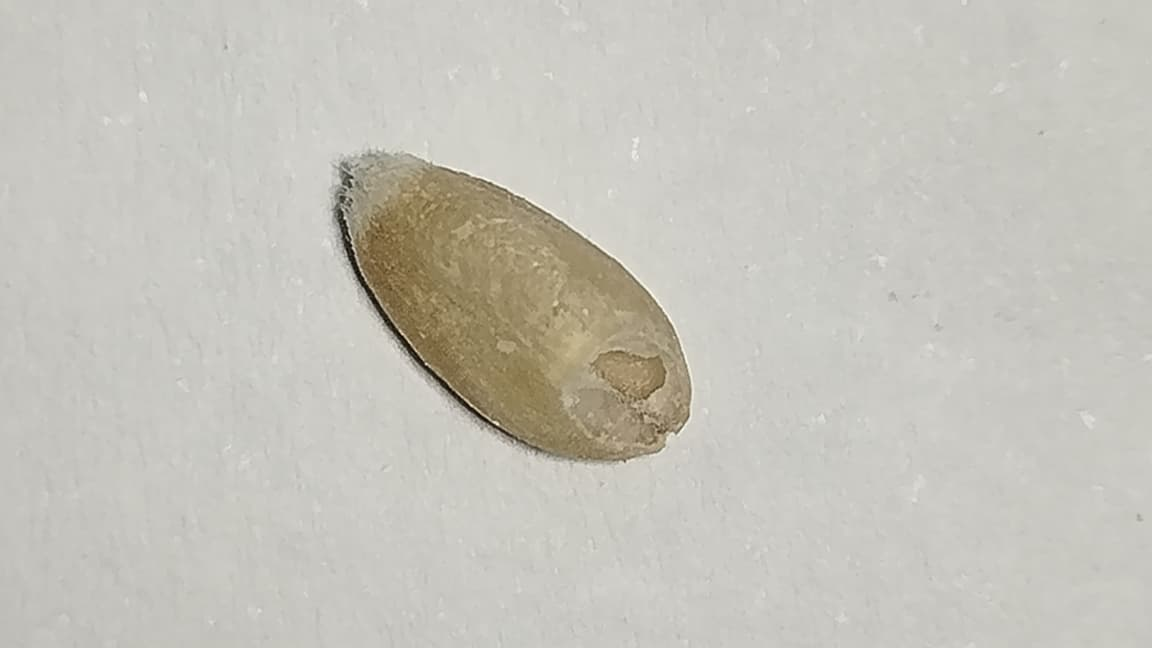damage: (338, 151, 690, 457)
insectdamage: (496, 221, 692, 441)
